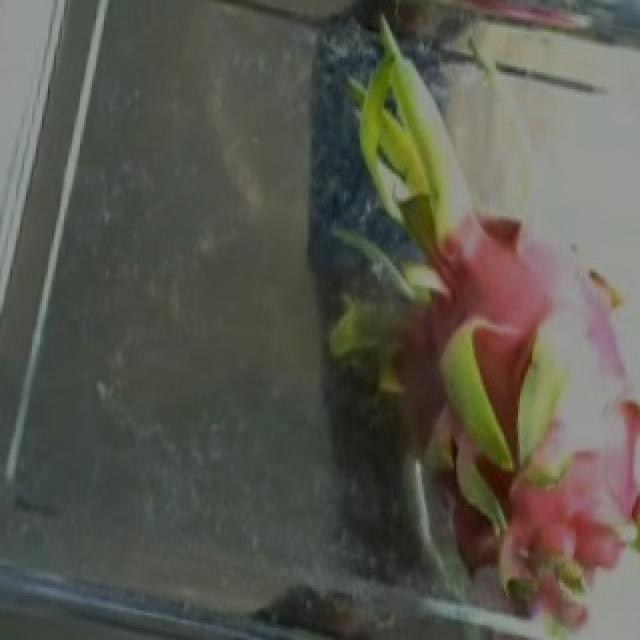fruit: (294, 173, 640, 628)
